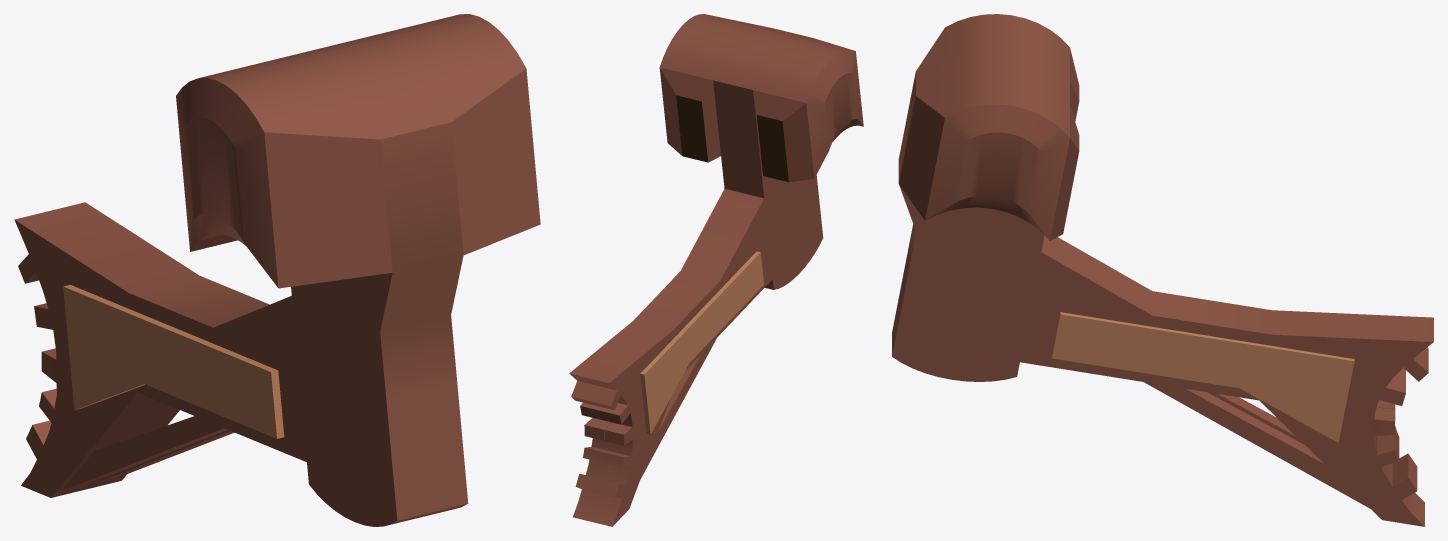
File: Knie Poot Links voor.fbx
The picture shows the model from 3 angles, left to right: view 1: azimuth 30°, elevation 25°; view 2: azimuth 150°, elevation 25°; view 3: azimuth 270°, elevation 25°; orthographic projection. The views are drawn at different scales.
Visible parts, largest first — view 1: Cube.003; view 2: Cube.003; view 3: Cube.003.
Part boxes in pixels (x1=…): Cube.003: x1=14, y1=14, x2=540, y2=526; Cube.003: x1=569, y1=14, x2=863, y2=526; Cube.003: x1=892, y1=14, x2=1433, y2=526.
Bounding box in the file's own units: 514 × 1104 × 1190.
